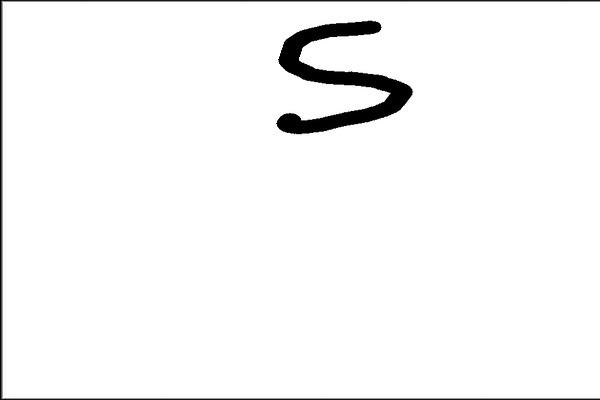S: (265, 14, 418, 141)
